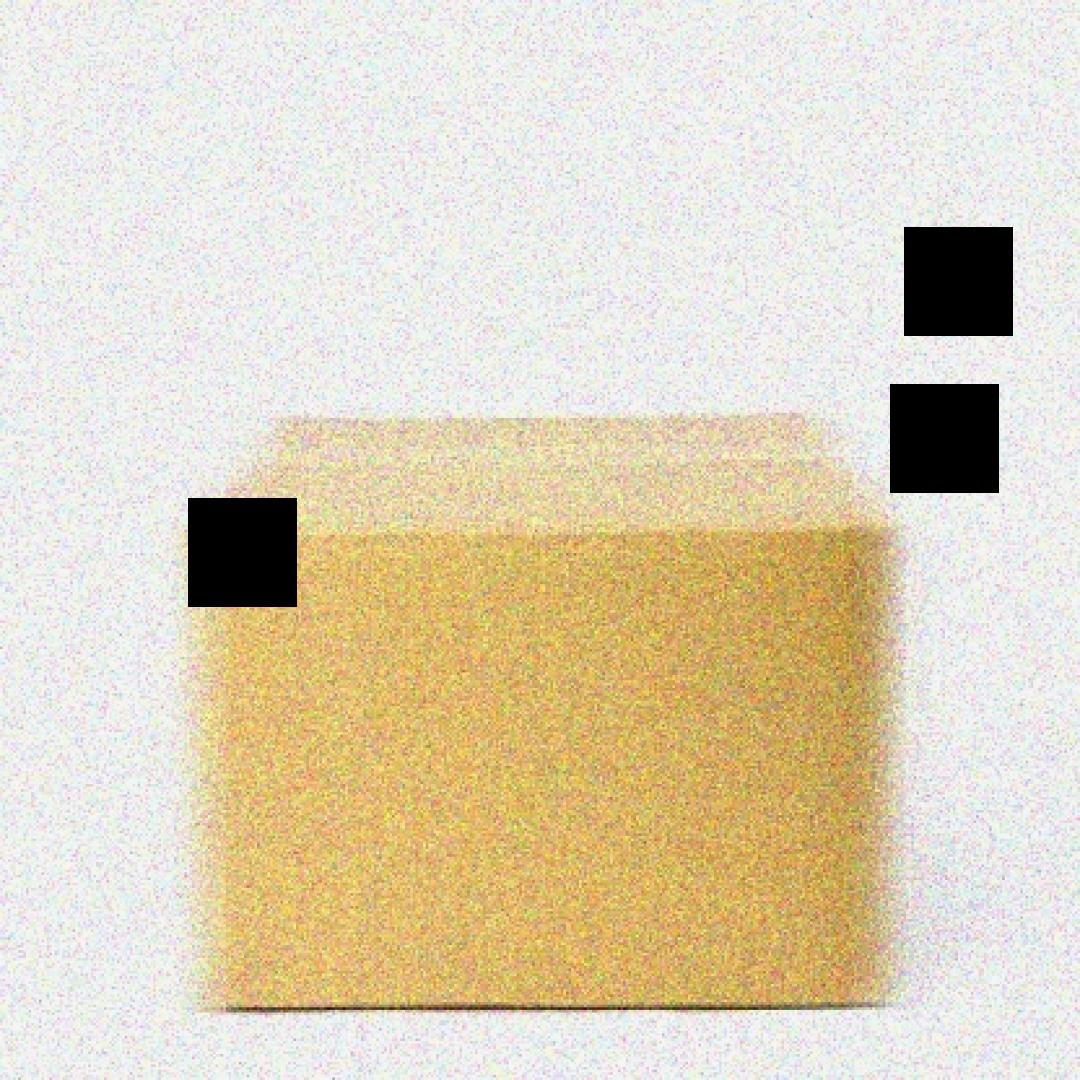package: (189, 407, 895, 1010)
